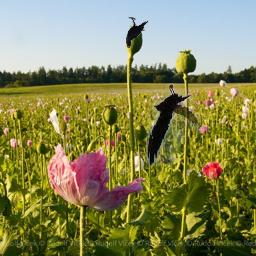Crow: (147, 83, 202, 165), (126, 18, 149, 49)
